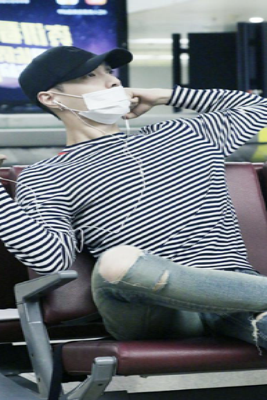mask_weared_incorrect: (59, 67, 130, 121)
